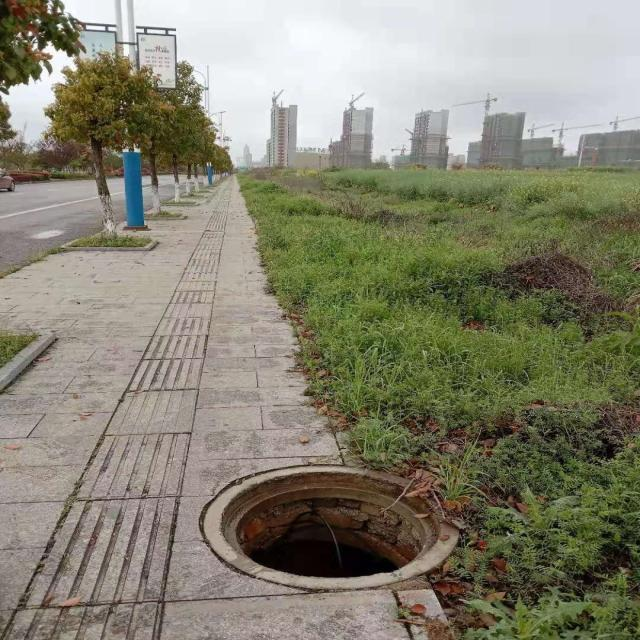Faulty: (202, 464, 460, 588)
